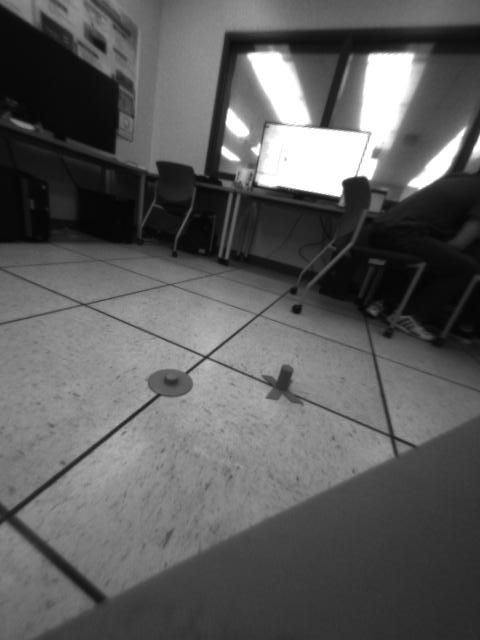X: (262, 365, 306, 404)
